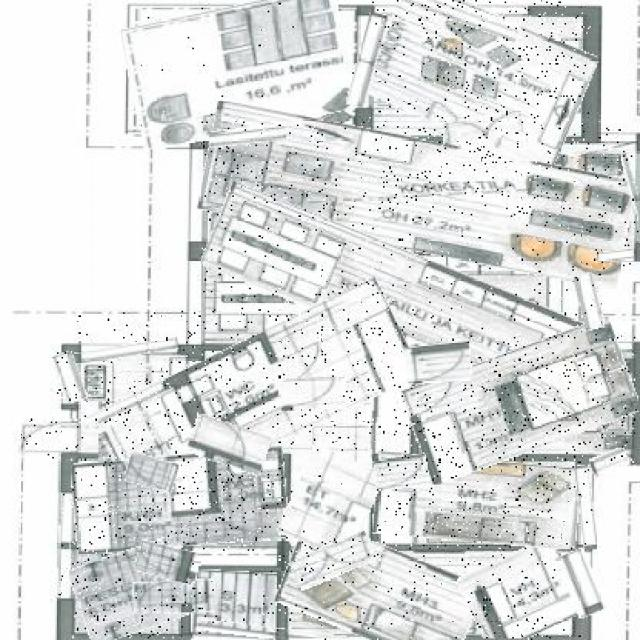door: (189, 418, 269, 471), (291, 538, 375, 584), (14, 418, 98, 462), (406, 343, 471, 383), (134, 580, 215, 612), (137, 543, 201, 582), (443, 115, 523, 143), (280, 377, 346, 409), (374, 457, 429, 491), (126, 454, 179, 489)
window: (376, 0, 522, 29), (196, 623, 370, 640), (352, 12, 382, 108), (560, 549, 602, 617), (576, 465, 596, 549), (74, 342, 178, 358), (576, 272, 602, 331), (209, 126, 286, 145), (55, 352, 83, 403), (626, 151, 640, 246), (59, 492, 70, 597), (590, 449, 628, 474), (597, 250, 634, 262)
zone: (200, 120, 632, 271), (78, 312, 420, 488), (203, 215, 585, 372), (367, 0, 590, 152), (124, 0, 352, 138), (406, 334, 637, 468), (278, 531, 480, 640), (72, 451, 288, 551), (374, 456, 580, 546), (463, 544, 580, 640), (72, 544, 188, 638), (285, 451, 377, 555), (191, 569, 275, 640)
